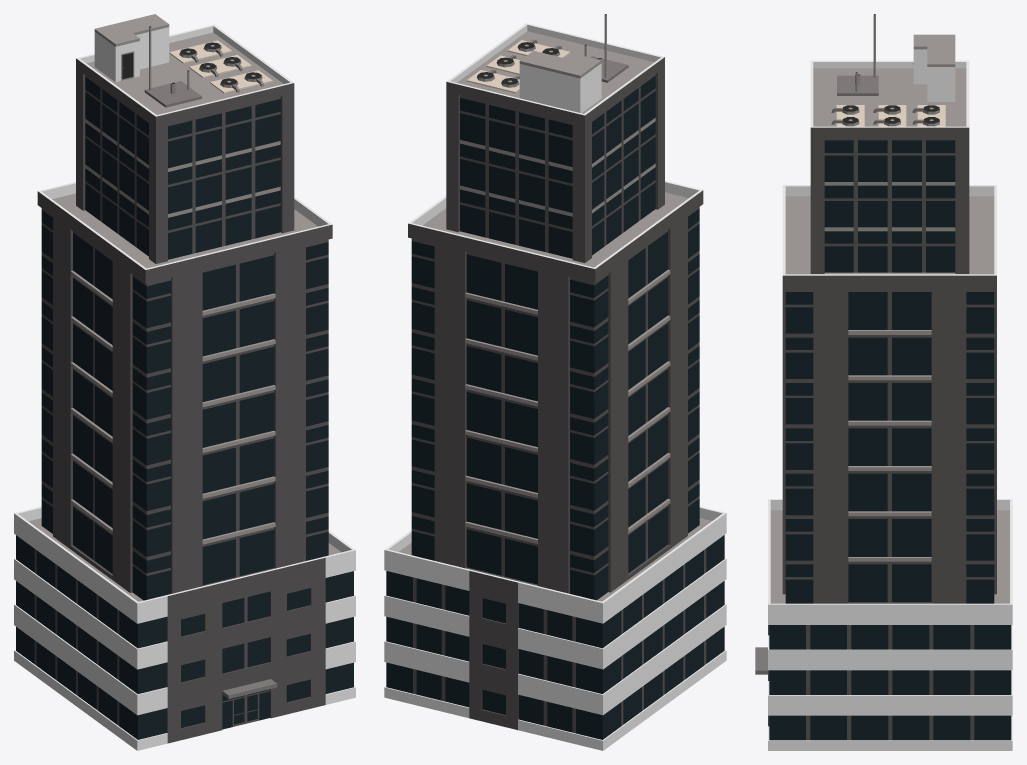
File: building-office-pyramid.6aaaf0f8.glb
3 views of the same model, side by side, from view 1: azimuth 30°, elevation 25°; view 2: azimuth 150°, elevation 25°; view 3: azimuth 270°, elevation 25° (orthographic).
Visible parts, largest first — view 1: building-office-pyramid; view 2: building-office-pyramid; view 3: building-office-pyramid.
Part boxes in pixels (left/top/right/bottom): building-office-pyramid: left=14, top=14, right=355, bottom=750; building-office-pyramid: left=384, top=14, right=726, bottom=750; building-office-pyramid: left=755, top=14, right=1012, bottom=750.
Bounding box in the file's own units: 18 × 52.6 × 18.5.
